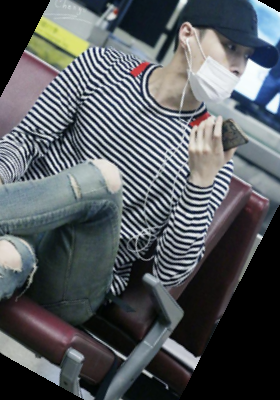mask_weared_incorrect: (164, 1, 268, 115)
